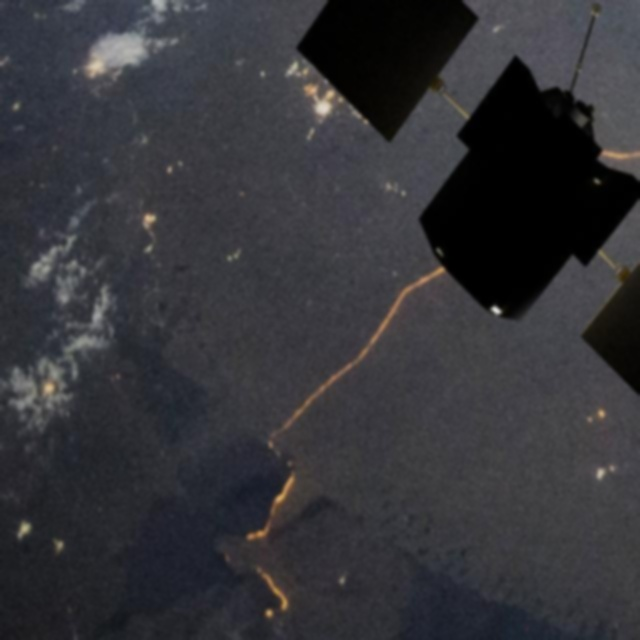satellite: (261, 0, 640, 400)
